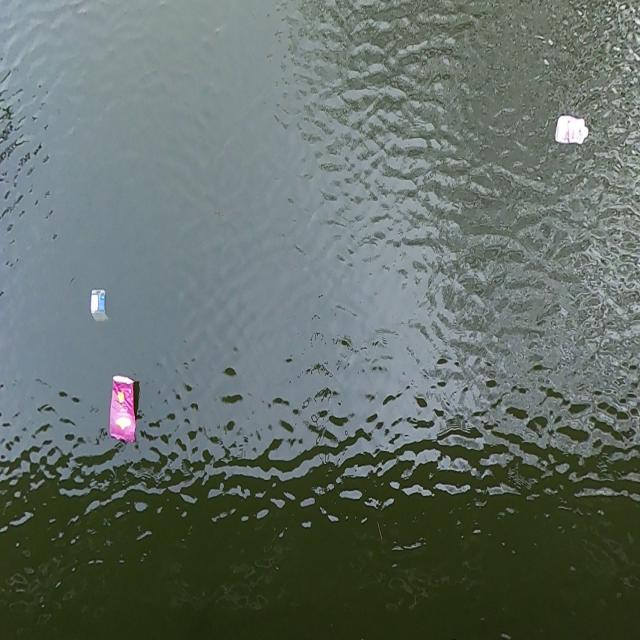Autre plastique: (109, 374, 137, 444), (88, 289, 109, 325)
Bouteille plastique: (556, 114, 590, 152)
